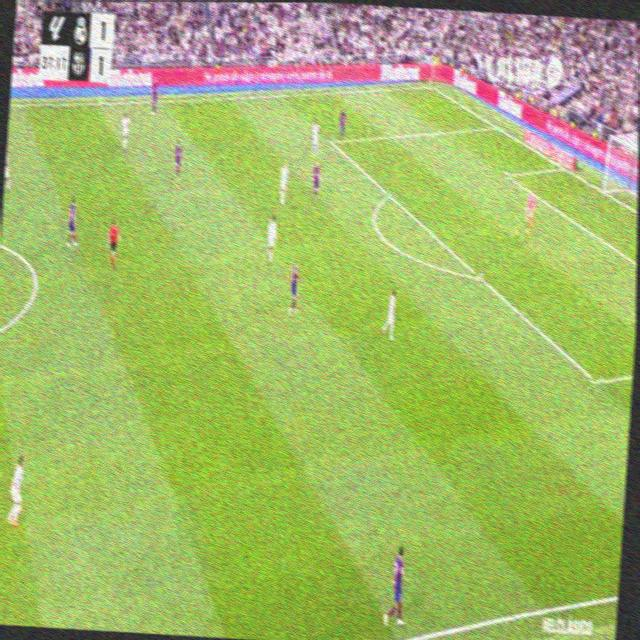bigarea_bottom_inner: (590, 369, 603, 394)
bigarea_top_inner: (327, 134, 335, 147)
bottom_arc_area_intersection: (472, 267, 484, 285)
corner: (425, 79, 436, 91)
smallarea_top_inner: (502, 169, 510, 181)
top_arc_area_intersection: (385, 186, 393, 201)
